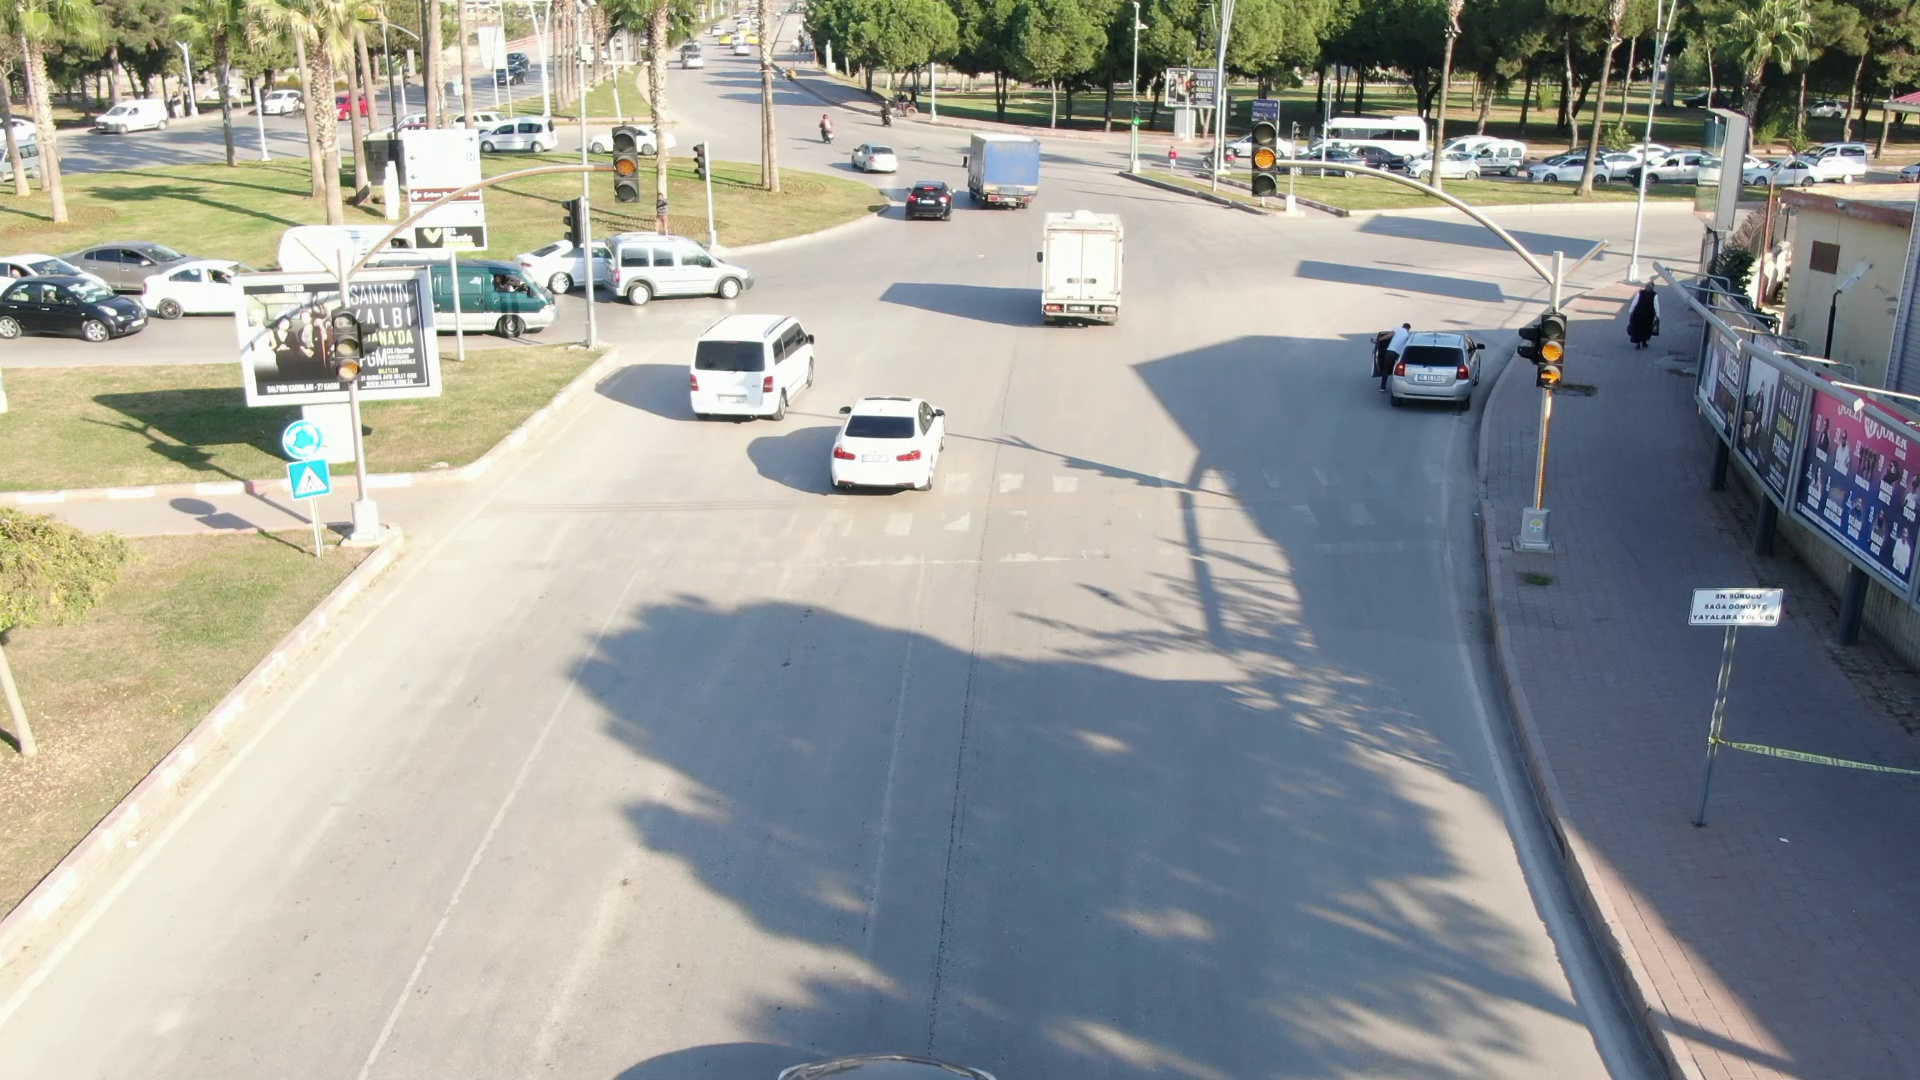car: (680, 304, 821, 431), (818, 387, 963, 506), (1029, 202, 1151, 331), (590, 225, 766, 308), (949, 120, 1051, 210), (1409, 324, 1482, 412), (895, 179, 960, 223), (840, 139, 905, 180)
person: (1617, 274, 1668, 354)
